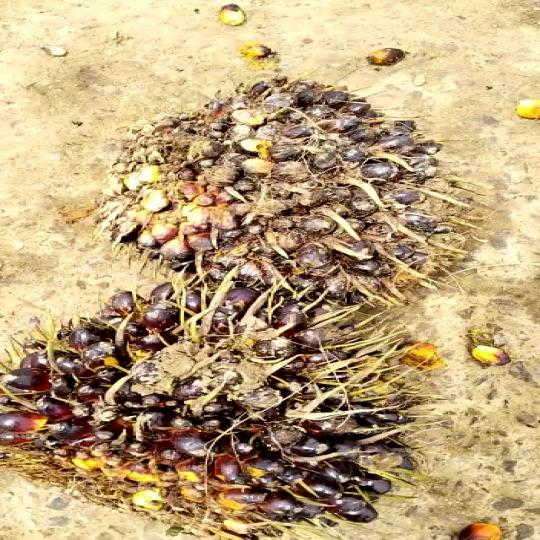mentah: (0, 265, 437, 539), (96, 77, 481, 305)
